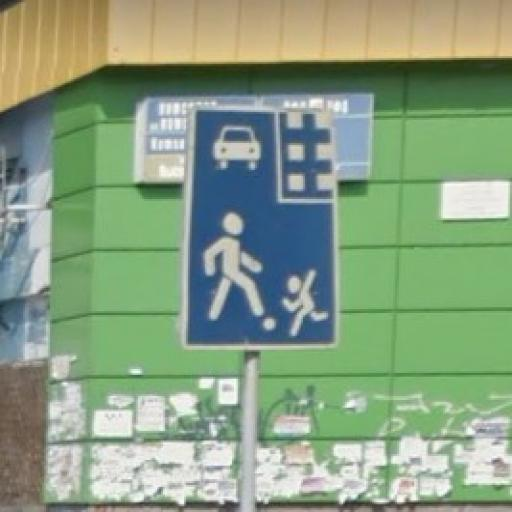traffic_sign: (182, 108, 345, 357)
